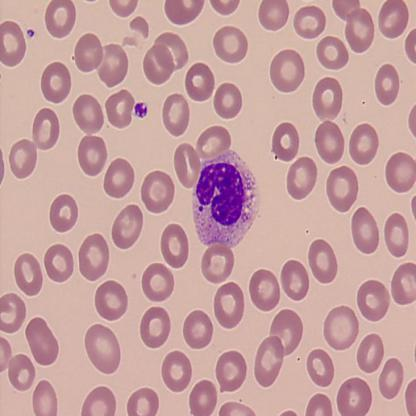Band Neutrophil: (189, 149, 262, 249)
